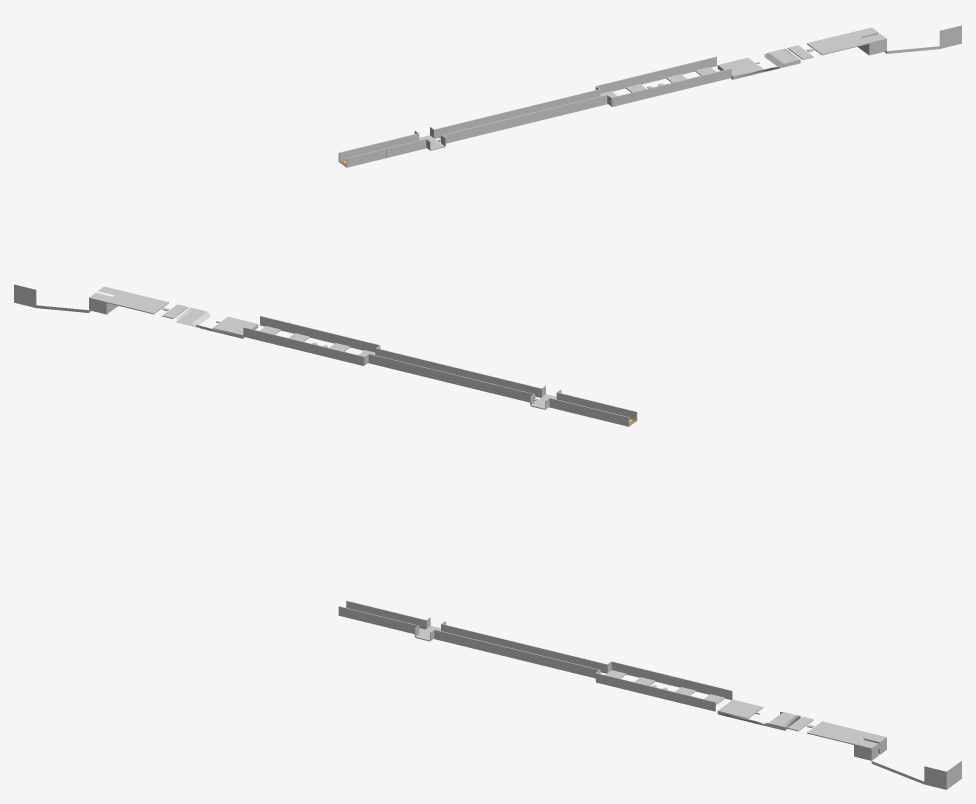
3 renders of one model, top to bottom at view 1: azimuth 30°, elevation 25°; view 2: azimuth 150°, elevation 25°; view 3: azimuth 330°, elevation 25°, orthographic.
Visible parts, largest first — view 1: sol16-col, sol9-col, mur12 -col; view 2: sol16-col, sol9-col, mur11 -col; view 3: sol16-col, sol9-col.
Part boxes in pixels (x1,y1,x2,y2): sol16-col: (854, 25, 961, 55); sol9-col: (717, 57, 779, 79); mur12 -col: (561, 94, 611, 115); sol16-col: (14, 284, 121, 314); sol9-col: (196, 316, 258, 338); mur11 -col: (364, 353, 415, 374); sol16-col: (854, 733, 961, 789); sol9-col: (717, 699, 764, 725).
Bounding box in the file's own units: 2119 × 67.98 × 63.6.
Materials: 1 (1 with a texture image).
